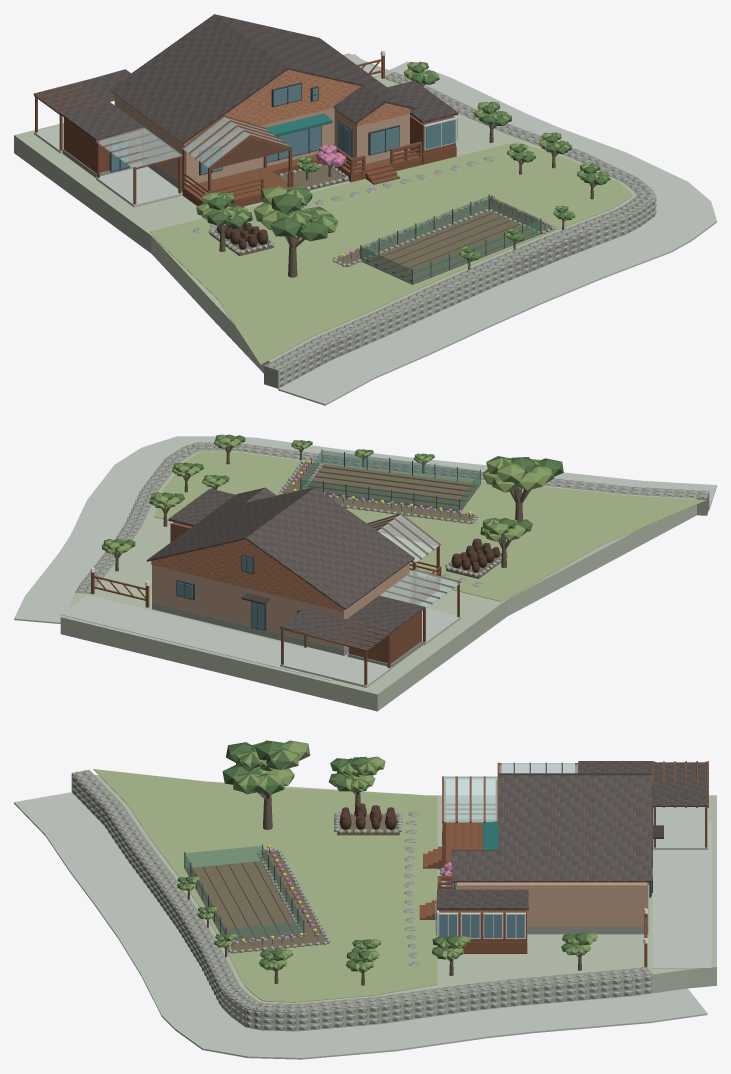
File: villa.glb
3 views of the same model, one above another, from view 1: azimuth 30°, elevation 25°; view 2: azimuth 150°, elevation 25°; view 3: azimuth 270°, elevation 25° (orthographic). The views are drawn at different scales.
Parts seen in each view (by area): view 1: Ground_lawn, Road_following_boundary, Main_and_front_wing_CONNECTED_ROOF, Raised_site_ground, Retaining_cap_stone, Gable_above_small_roof, Cultivation_row, Garden_fence, Pine_foliage.041, Pine_foliage.040, Deck_board, Porch_front_timber_gable (+22 smaller); view 2: Ground_lawn, Raised_site_ground, Main_and_front_wing_CONNECTED_ROOF, Road_following_boundary, Gable_above_small_roof, Retaining_cap_stone, Ground_entry, Cultivation_row, Garden_fence, Pine_foliage.040, Paved_floor_garage, Roof_garage (+20 smaller); view 3: Ground_lawn, Road_following_boundary, Main_and_front_wing_CONNECTED_ROOF, Raised_site_ground, Retaining_cap_stone, Ground_entry, Front_wing_gable, Cultivation_row, Pine_foliage.041, Pine_foliage.040, Garden_fence, Roof_garage (+19 smaller).
Boxes of the visible parts, <box> form: Ground_lawn: <box>150,142,632,364</box>; Road_following_boundary: <box>278,61,716,405</box>; Main_and_front_wing_CONNECTED_ROOF: <box>109,14,415,144</box>; Raised_site_ground: <box>14,53,655,388</box>; Retaining_cap_stone: <box>264,72,656,388</box>; Gable_above_small_roof: <box>114,69,360,184</box>; Cultivation_row: <box>361,210,540,284</box>; Garden_fence: <box>361,196,540,283</box>; Pine_foliage.041: <box>270,62,610,260</box>; Pine_foliage.040: <box>253,61,609,257</box>; Deck_board: <box>182,135,293,206</box>; Porch_front_timber_gable: <box>182,115,292,169</box>; Ground_lawn: <box>154,451,706,601</box>; Raised_site_ground: <box>60,450,696,711</box>; Main_and_front_wing_CONNECTED_ROOF: <box>146,487,414,609</box>; Road_following_boundary: <box>14,436,716,623</box>; Gable_above_small_roof: <box>151,539,409,648</box>; Retaining_cap_stone: <box>75,442,709,593</box>; Ground_entry: <box>60,595,332,680</box>; Cultivation_row: <box>306,464,479,513</box>; Garden_fence: <box>301,450,479,512</box>; Pine_foliage.040: <box>102,434,554,554</box>; Paved_floor_garage: <box>280,647,391,687</box>; Roof_garage: <box>280,608,391,651</box>; Ground_lawn: <box>93,769,437,1002</box>; Road_following_boundary: <box>14,792,707,1059</box>; Main_and_front_wing_CONNECTED_ROOF: <box>451,773,663,882</box>; Raised_site_ground: <box>71,773,716,1031</box>; Retaining_cap_stone: <box>72,770,652,1030</box>; Ground_entry: <box>652,821,711,968</box>; Front_wing_gable: <box>455,882,648,926</box>; Cultivation_row: <box>185,861,303,942</box>; Pine_foliage.041: <box>177,740,592,971</box>; Pine_foliage.040: <box>180,740,597,971</box>; Garden_fence: <box>185,845,303,942</box>; Roof_garage: <box>652,762,708,806</box>.
Bounding box in the file's own units: 36.78 × 8.1 × 40.53.
20 materials, 2 textured.
